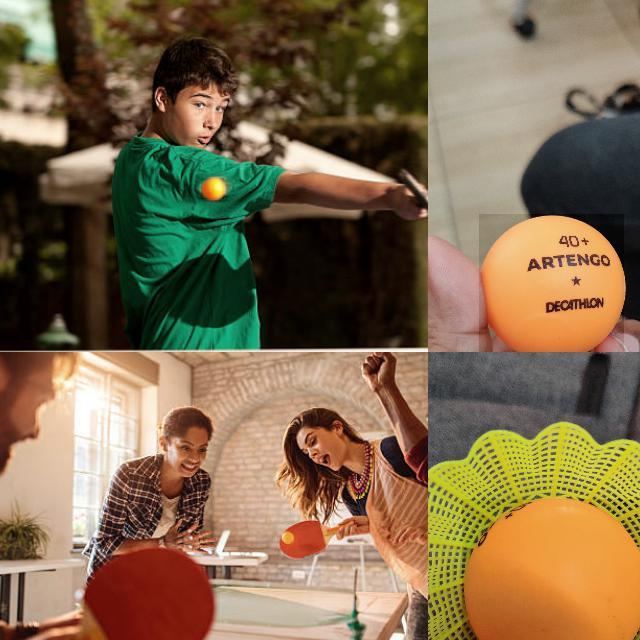ping-pong-ball: (461, 499, 639, 639), (479, 214, 625, 351), (201, 178, 225, 200), (282, 532, 294, 544)
